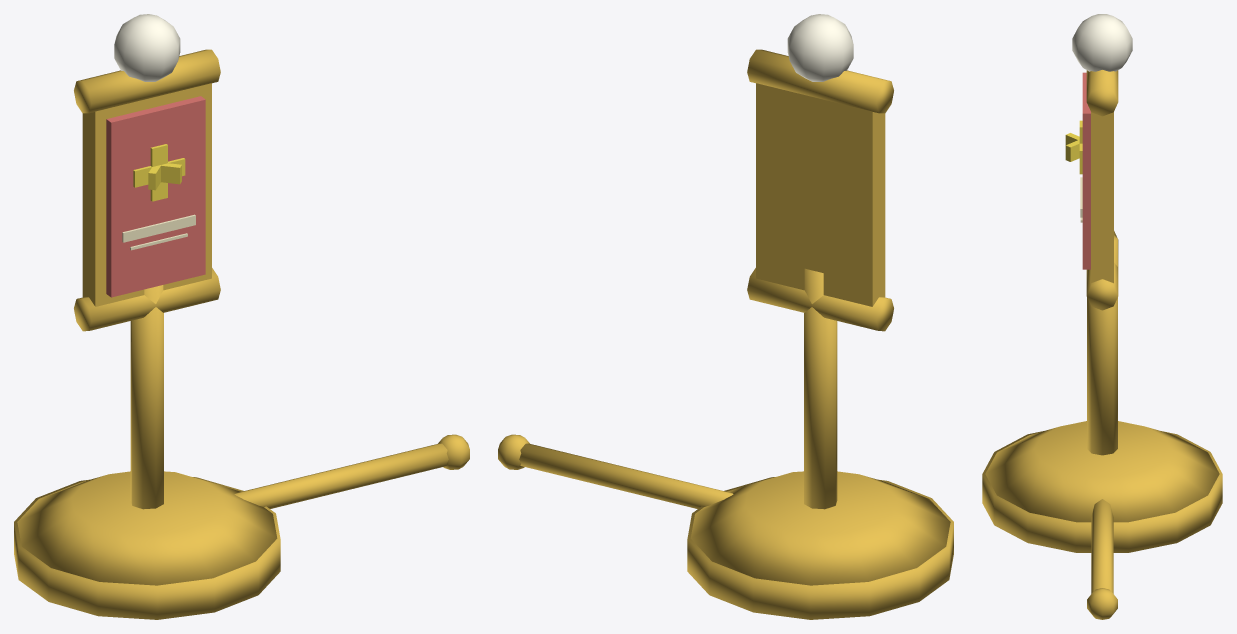
File: checkpoint.glb
The picture shows the model from 3 angles, left to right: view 1: azimuth 30°, elevation 25°; view 2: azimuth 150°, elevation 25°; view 3: azimuth 270°, elevation 25°; orthographic projection. The views are drawn at different scales.
Visible parts, largest first — view 1: Base, Orb_Inactive; view 2: Base, Orb_Inactive; view 3: Base, Orb_Inactive.
Boxes of the visible parts, x1,y1,x2,y2 form: Base: (14, 49, 469, 619); Orb_Inactive: (114, 14, 180, 81); Base: (498, 49, 953, 619); Orb_Inactive: (787, 14, 853, 81); Base: (982, 70, 1222, 619); Orb_Inactive: (1072, 14, 1132, 71).
Bounding box in the file's own units: 2.76 × 3.31 × 1.48.
